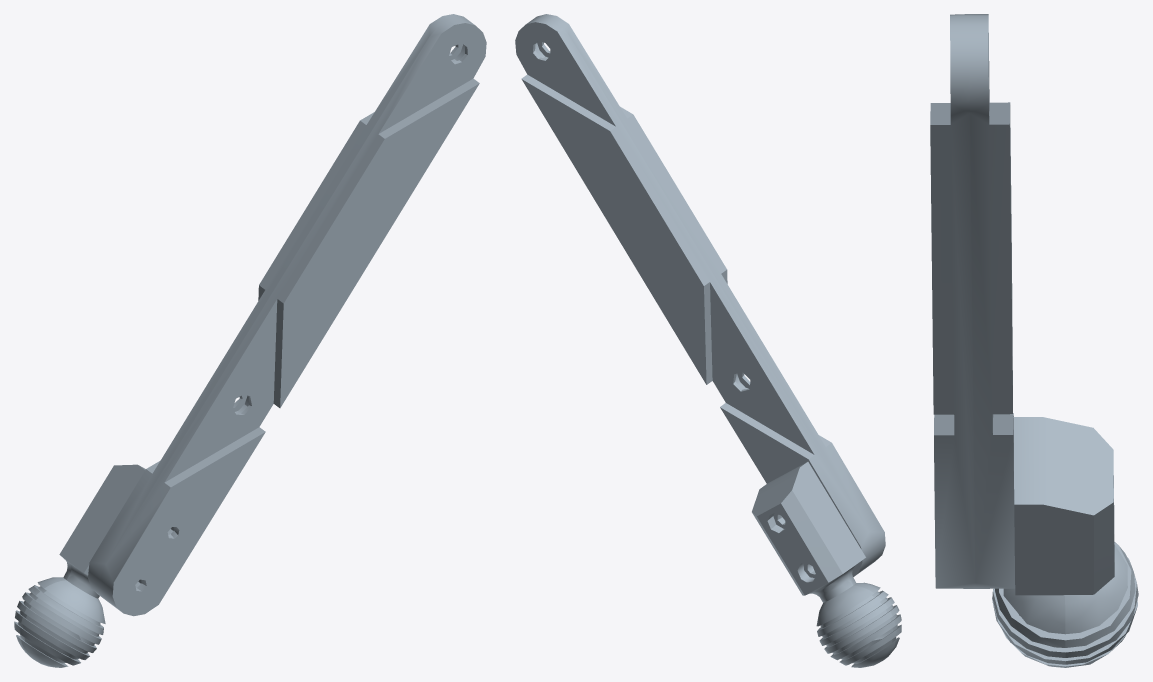
3 views of the same model, side by side, from view 1: azimuth 30°, elevation 25°; view 2: azimuth 150°, elevation 25°; view 3: azimuth 270°, elevation 25° (orthographic). The views are drawn at different scales.
Parts seen in each view (by area): view 1: tmp_export_fr_link2.002; view 2: tmp_export_fr_link2.002; view 3: tmp_export_fr_link2.002.
Boxes of the visible parts, x1=… form: tmp_export_fr_link2.002: x1=14, y1=14, x2=486, y2=667; tmp_export_fr_link2.002: x1=515, y1=14, x2=901, y2=667; tmp_export_fr_link2.002: x1=930, y1=14, x2=1138, y2=667.
Size of the model in its own units: 0.1202 by 0.0314 by 0.1541.
